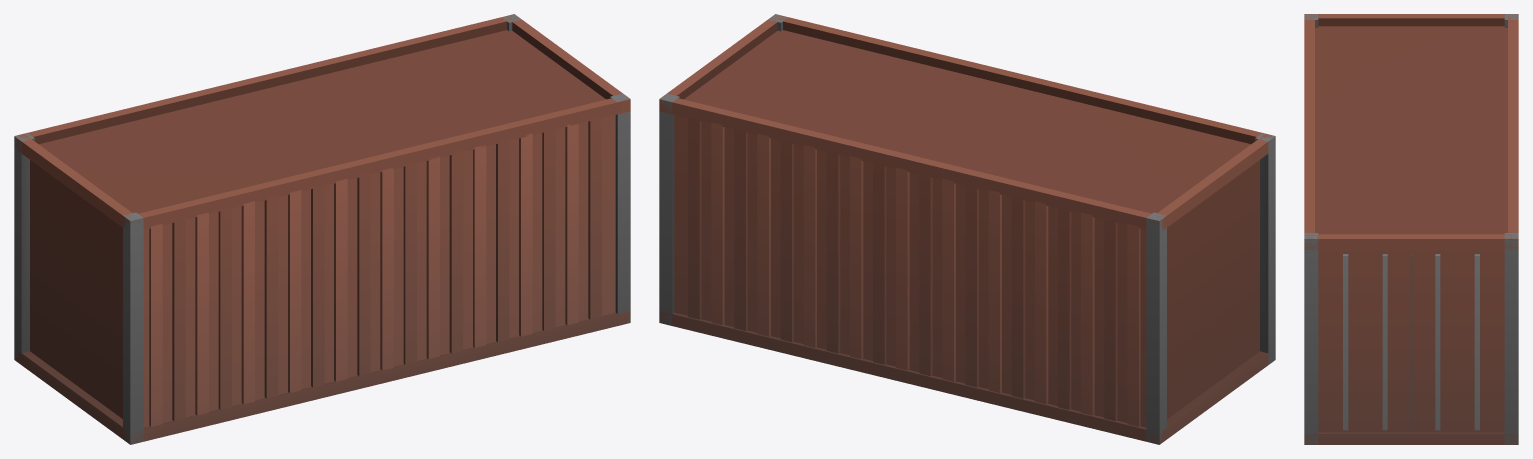
File: box_red.glb
3 views of the same model, side by side, from view 1: azimuth 30°, elevation 25°; view 2: azimuth 150°, elevation 25°; view 3: azimuth 270°, elevation 25° (orthographic). The views are drawn at different scales.
Visible parts, largest first — view 1: box_red; view 2: box_red; view 3: box_red.
Boxes of the visible parts, left/top/right/bottom form: box_red: left=14, top=14, right=630, bottom=444; box_red: left=659, top=14, right=1275, bottom=444; box_red: left=1304, top=14, right=1518, bottom=444.
Bounding box in the file's own units: 6.09 × 2.59 × 2.44.
